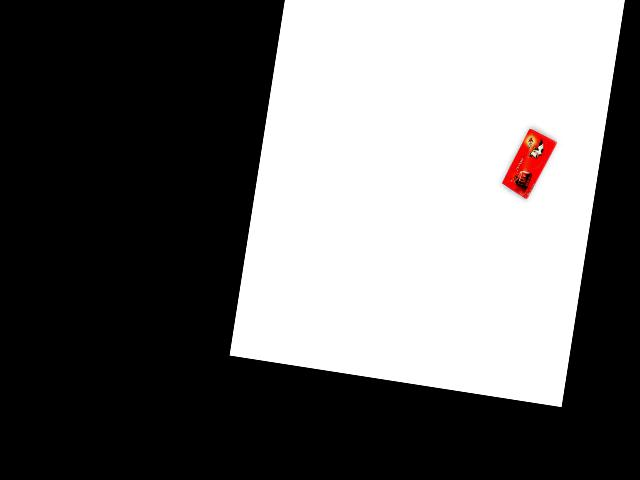chocolate: (499, 127, 558, 202)
